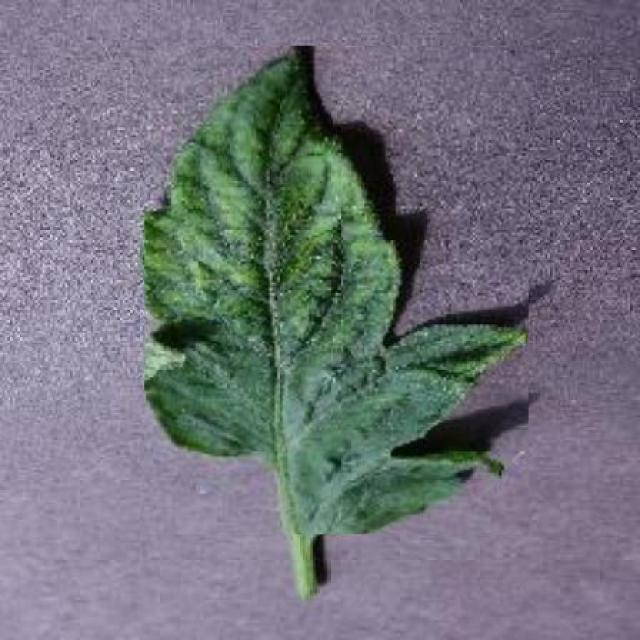Mosaic Virus: (144, 45, 529, 535)
